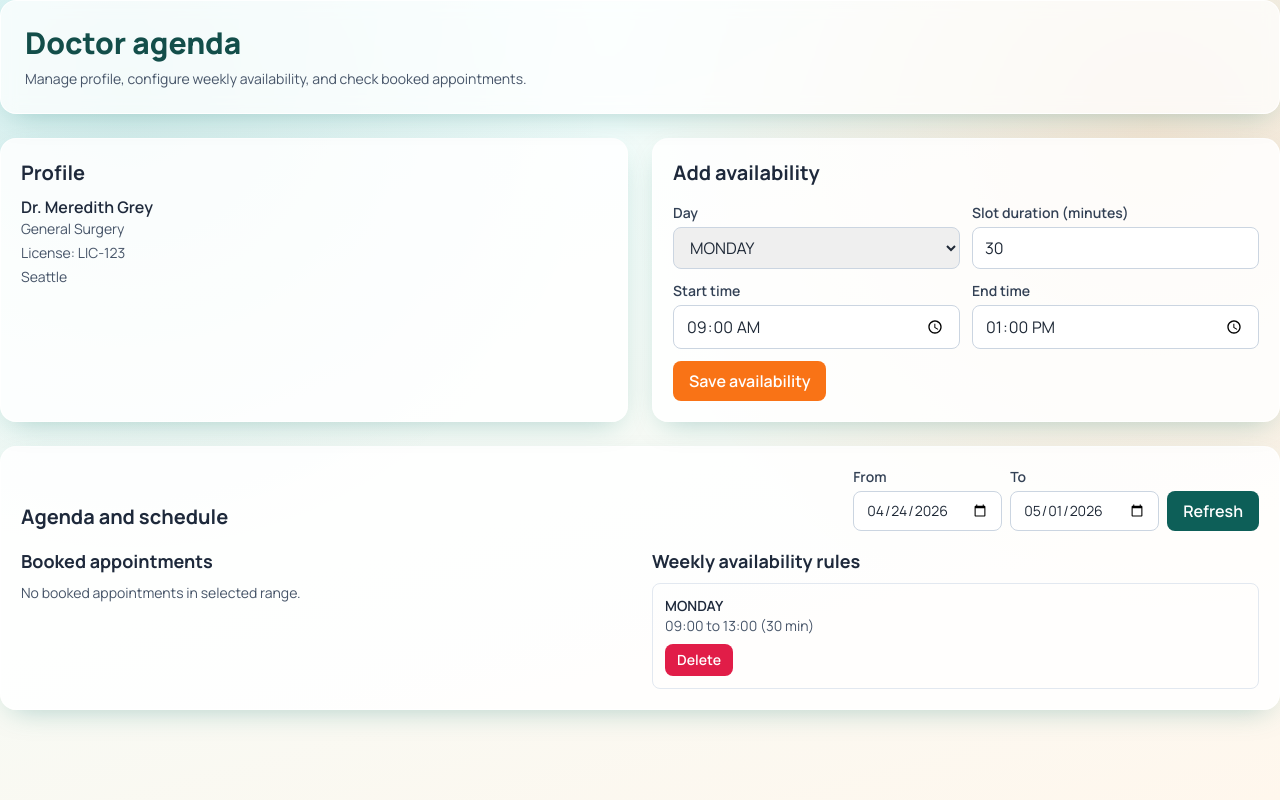
DoctorAgendaPage › deletes availability after confirmation
The width and height of the screenshot is (1280, 800).
Click the button "Delete": (699, 660) [665,644,733,676]
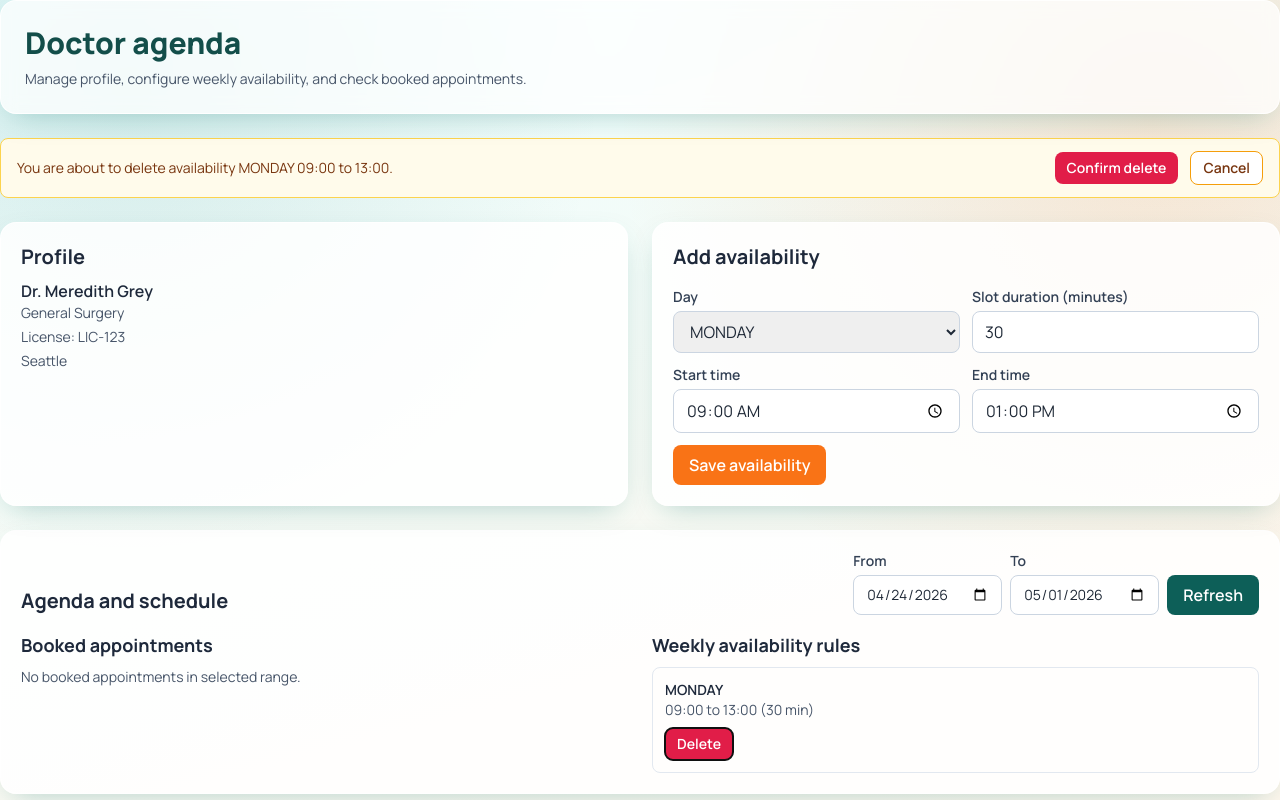
Expected: the text "You are about to delete availability MONDAY 09:00 to 13:00." is shown, [17,158,393,178]
Click the button "Confirm delete": (1117, 168) [1055,152,1178,184]
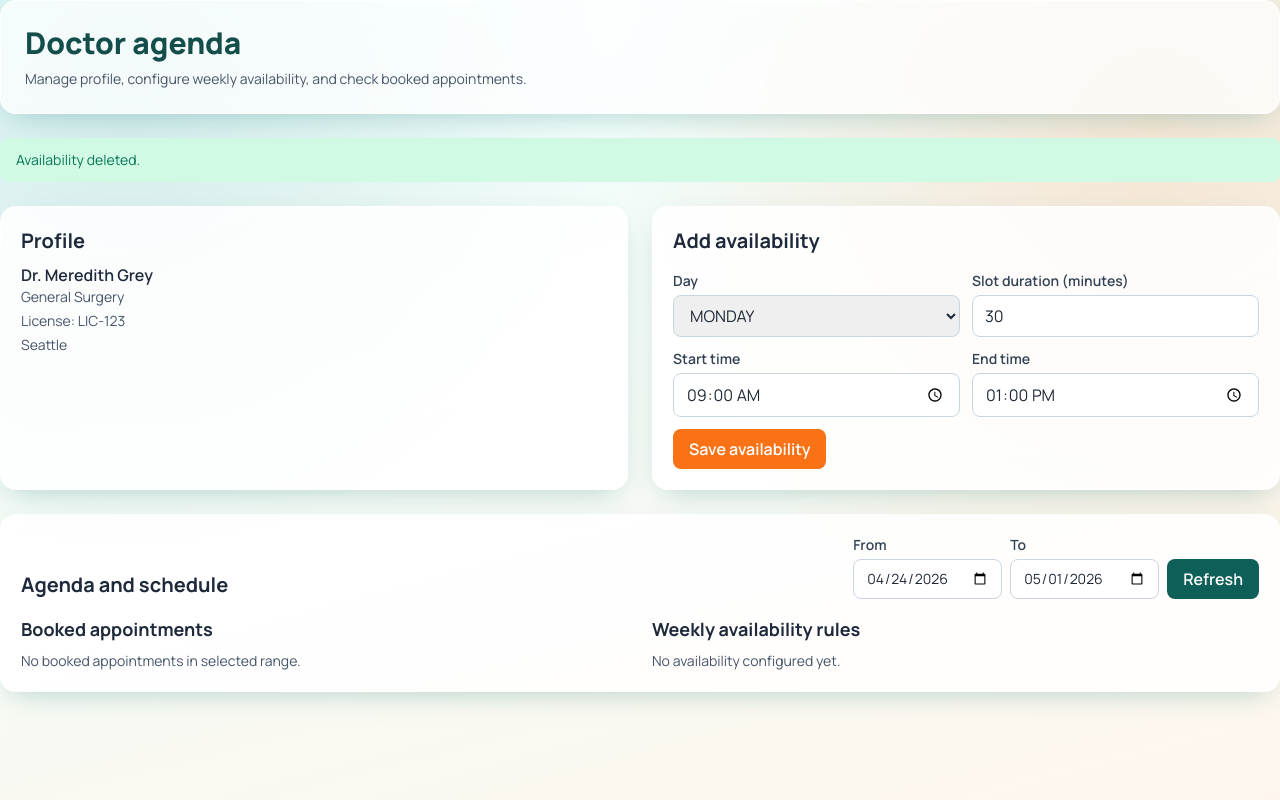
Expected: the text "Availability deleted." is shown, [0,138,1279,182]
Expected: the text "No availability configured yet." is shown, [652,651,840,670]
